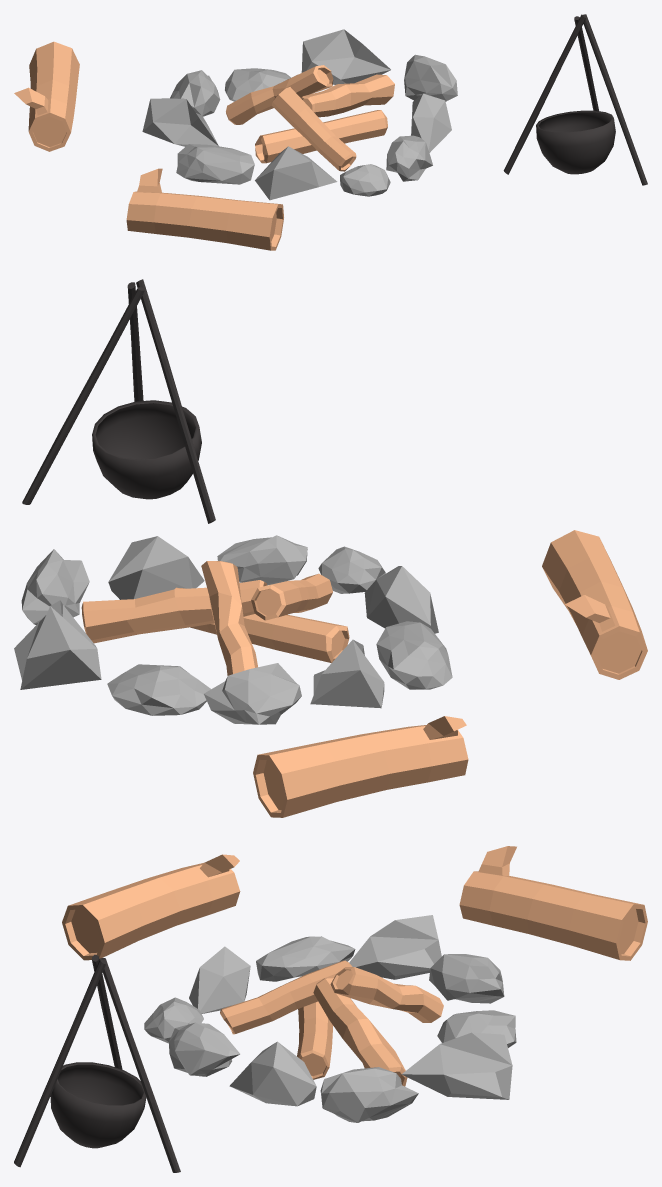
The model's file is campfire.glb.
3 renders of one model, top to bottom at view 1: azimuth 30°, elevation 25°; view 2: azimuth 150°, elevation 25°; view 3: azimuth 270°, elevation 25°, orthographic. The views are drawn at different scales.
Parts seen in each view (by area): view 1: merged; view 2: merged; view 3: merged.
Part boxes in pixels (<box>): merged: <box>14,14,647,250</box>; merged: <box>14,279,647,817</box>; merged: <box>14,846,647,1172</box>.
Bounding box in the file's own units: 3.38 × 1.09 × 3.23.
